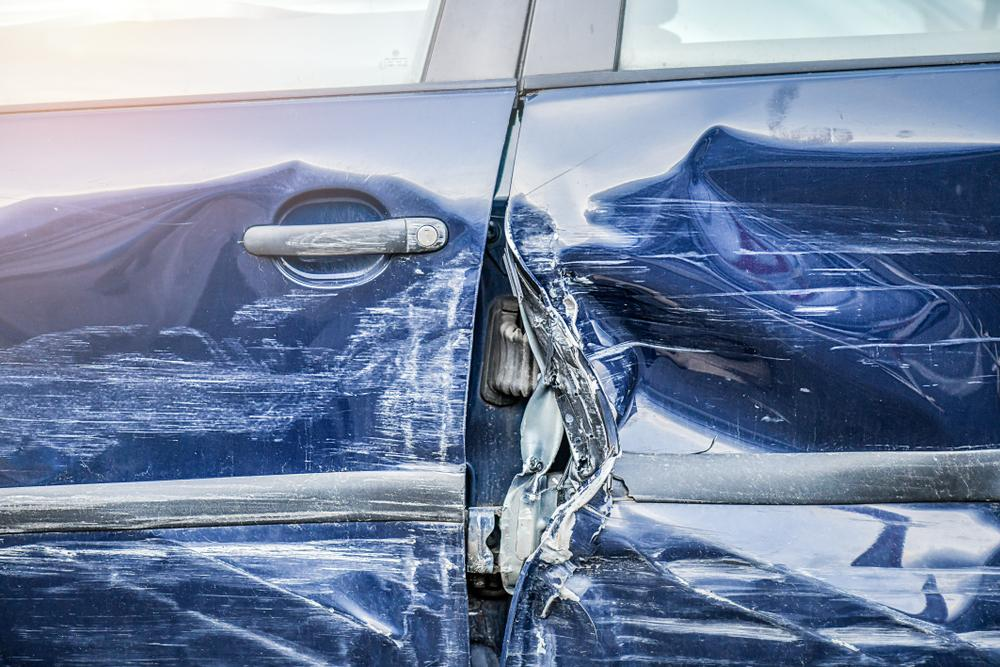dent: (505, 124, 1000, 667), (0, 154, 469, 642)
